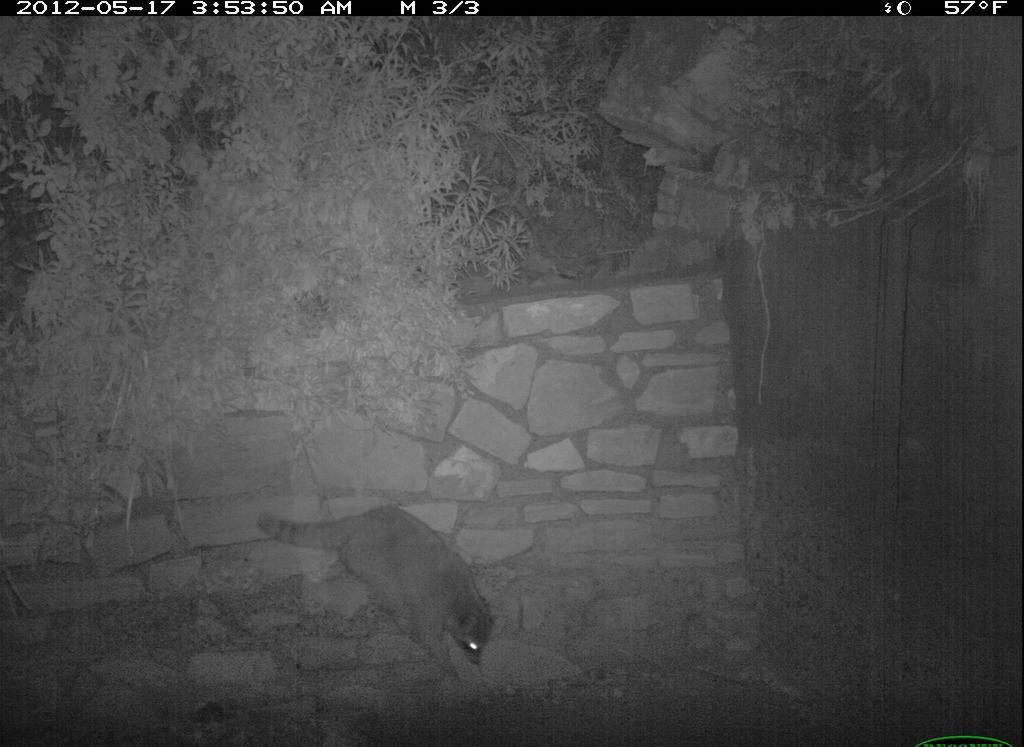raccoon: (249, 488, 504, 703)
